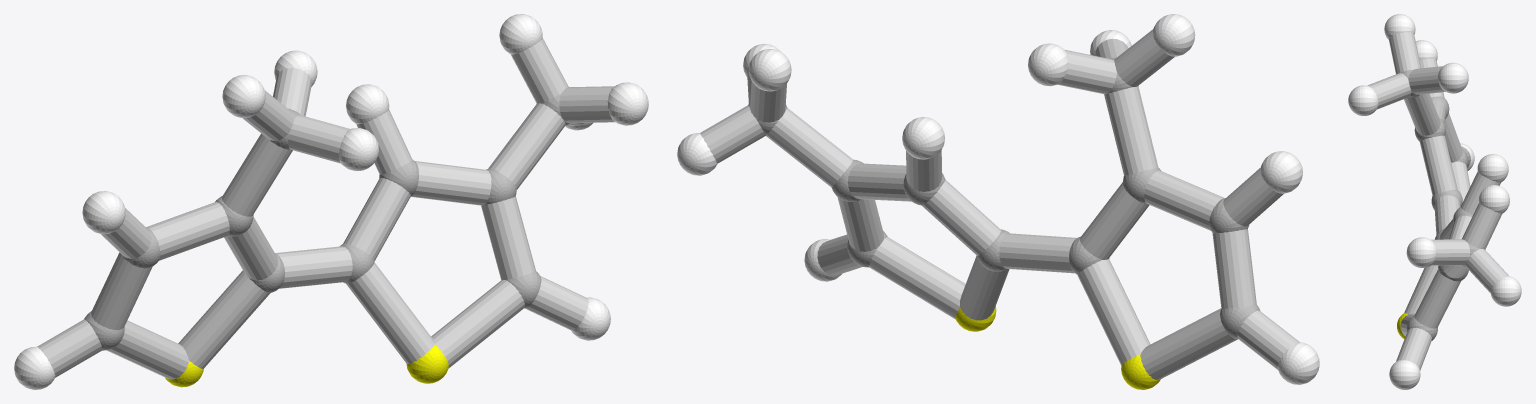
The model's file is Methylthiophene_Phi_10_Theta_140_Methylthiophene.glb.
3 renders of one model, left to right at view 1: azimuth 30°, elevation 25°; view 2: azimuth 150°, elevation 25°; view 3: azimuth 270°, elevation 25°, orthographic. The views are drawn at different scales.
Parts seen in each view (by area): view 1: grp7965, grp3621, grp1, grp7241; view 2: grp7965, grp3621, grp1, grp7241; view 3: grp7965, grp3621, grp1.
Boxes of the visible parts, <box> form: grp7965: <box>37,38,615,379</box>; grp3621: <box>14,14,648,389</box>; grp1: <box>84,87,569,350</box>; grp7241: <box>165,345,448,387</box>; grp7965: <box>700,29,1299,379</box>; grp3621: <box>677,14,1319,384</box>; grp1: <box>748,57,1260,339</box>; grp7241: <box>955,306,1160,389</box>; grp7965: <box>1367,32,1508,370</box>; grp3621: <box>1348,14,1521,389</box>; grp1: <box>1401,70,1479,340</box>.
Bounding box in the file's own units: 9.76 × 5.46 × 3.34.
